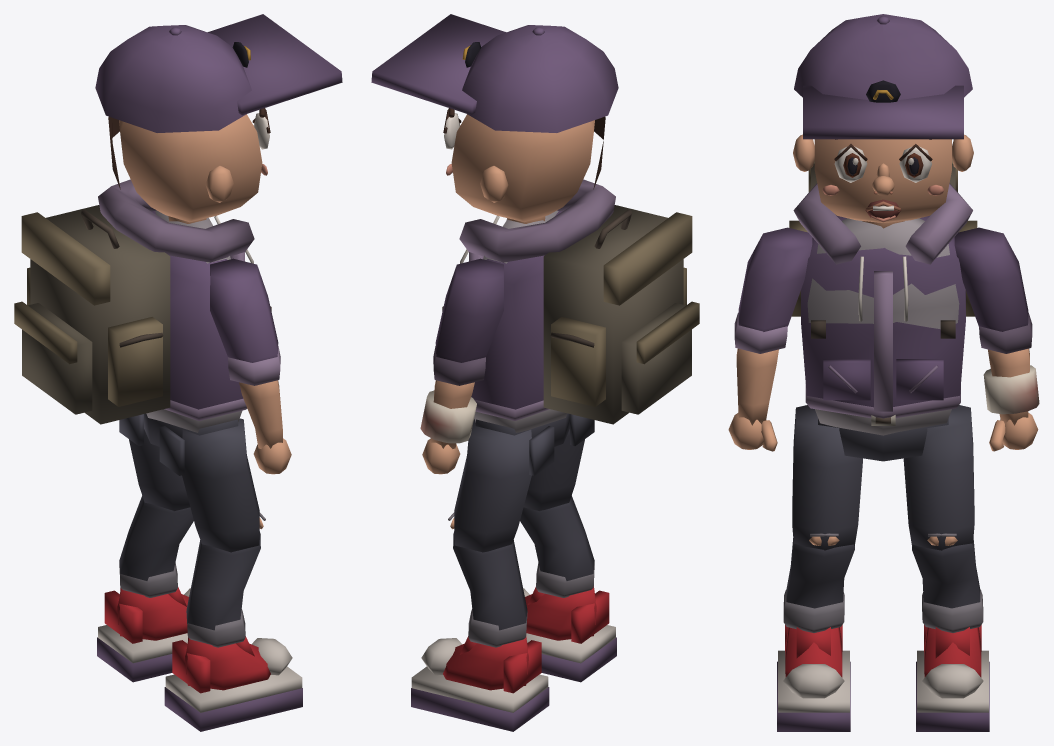
3 renders of one model, left to right at view 1: azimuth 30°, elevation 25°; view 2: azimuth 150°, elevation 25°; view 3: azimuth 270°, elevation 25°, orthographic. The views are drawn at different scales.
Parts seen in each view (by area): view 1: torso_pal_picketWhite, head_pal_picketWhite, footR_pal_picketWhite, legR_pal_picketWhite, footL_pal_picketWhite, shinR_pal_picketWhite, armR_pal_picketWhite, shinL_pal_picketWhite, foreArmR_pal_picketWhite, legL_pal_picketWhite, hip_pal_picketWhite, handR_pal_picketWhite; view 2: torso_pal_picketWhite, head_pal_picketWhite, footL_pal_picketWhite, legL_pal_picketWhite, footR_pal_picketWhite, shinL_pal_picketWhite, armL_pal_picketWhite, shinR_pal_picketWhite, foreArmL_pal_picketWhite, legR_pal_picketWhite, hip_pal_picketWhite, handL_pal_picketWhite; view 3: torso_pal_picketWhite, head_pal_picketWhite, legR_pal_picketWhite, legL_pal_picketWhite, footL_pal_picketWhite, footR_pal_picketWhite, armR_pal_picketWhite, armL_pal_picketWhite, shinR_pal_picketWhite, shinL_pal_picketWhite, foreArmL_pal_picketWhite, foreArmR_pal_picketWhite (+3 smaller).
Boxes of the visible parts, <box> form: torso_pal_picketWhite: <box>14,179,271,432</box>; head_pal_picketWhite: <box>95,14,342,223</box>; footR_pal_picketWhite: <box>164,636,302,731</box>; legR_pal_picketWhite: <box>182,418,259,552</box>; footL_pal_picketWhite: <box>97,587,190,682</box>; shinR_pal_picketWhite: <box>186,512,265,647</box>; armR_pal_picketWhite: <box>210,258,278,362</box>; shinL_pal_picketWhite: <box>119,496,193,597</box>; foreArmR_pal_picketWhite: <box>228,345,282,448</box>; legL_pal_picketWhite: <box>129,429,190,511</box>; hip_pal_picketWhite: <box>119,413,238,475</box>; handR_pal_picketWhite: <box>253,438,291,474</box>; torso_pal_picketWhite: <box>442,179,699,432</box>; head_pal_picketWhite: <box>371,14,618,223</box>; footL_pal_picketWhite: <box>411,636,549,731</box>; legL_pal_picketWhite: <box>454,419,531,552</box>; footR_pal_picketWhite: <box>523,586,616,682</box>; shinL_pal_picketWhite: <box>448,512,527,647</box>; armL_pal_picketWhite: <box>435,258,503,362</box>; shinR_pal_picketWhite: <box>520,496,594,597</box>; foreArmL_pal_picketWhite: <box>420,345,485,448</box>; legR_pal_picketWhite: <box>523,429,584,511</box>; hip_pal_picketWhite: <box>475,413,594,475</box>; handL_pal_picketWhite: <box>422,438,460,474</box>; torso_pal_picketWhite: <box>789,160,977,435</box>; head_pal_picketWhite: <box>793,14,973,228</box>; legR_pal_picketWhite: <box>792,405,862,550</box>; legL_pal_picketWhite: <box>903,405,974,550</box>; footL_pal_picketWhite: <box>916,625,989,731</box>; footR_pal_picketWhite: <box>777,625,850,731</box>; armR_pal_picketWhite: <box>738,227,812,331</box>; armL_pal_picketWhite: <box>954,227,1028,331</box>; shinR_pal_picketWhite: <box>783,533,854,632</box>; shinL_pal_picketWhite: <box>912,533,983,632</box>; foreArmL_pal_picketWhite: <box>979,312,1039,425</box>; foreArmR_pal_picketWhite: <box>734,312,787,425</box>.
Bounding box in the file's own units: 0.6016 × 1.45 × 0.6043.
